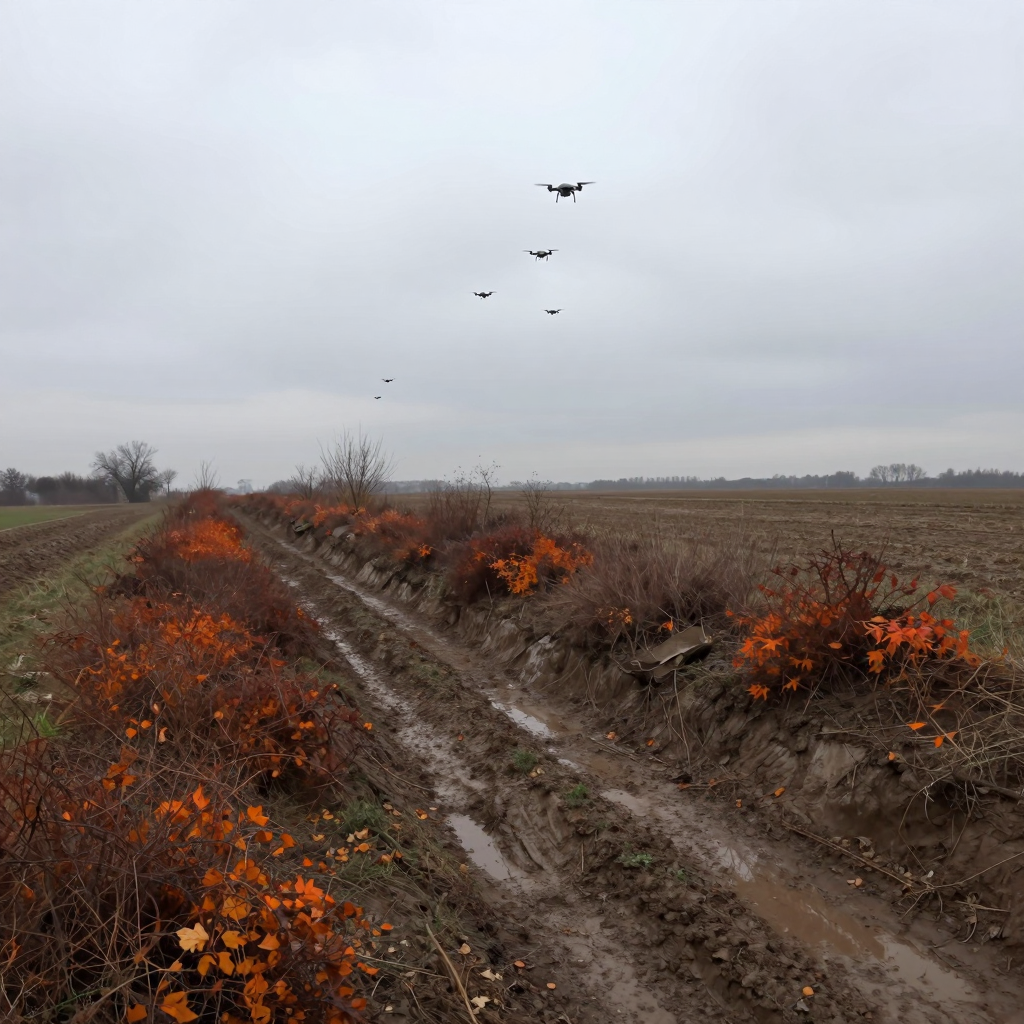drone: (534, 182, 596, 203), (522, 249, 559, 262), (472, 291, 497, 300), (542, 309, 564, 316), (381, 378, 395, 383), (373, 397, 385, 400)
